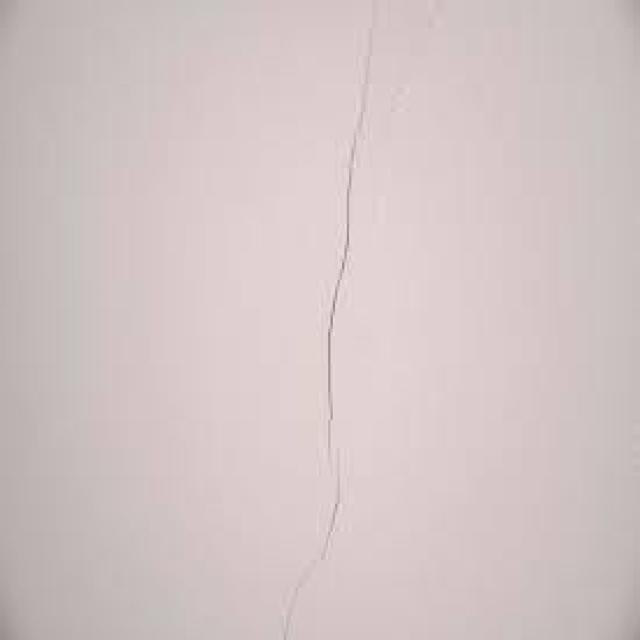Crack: (277, 0, 365, 637)
